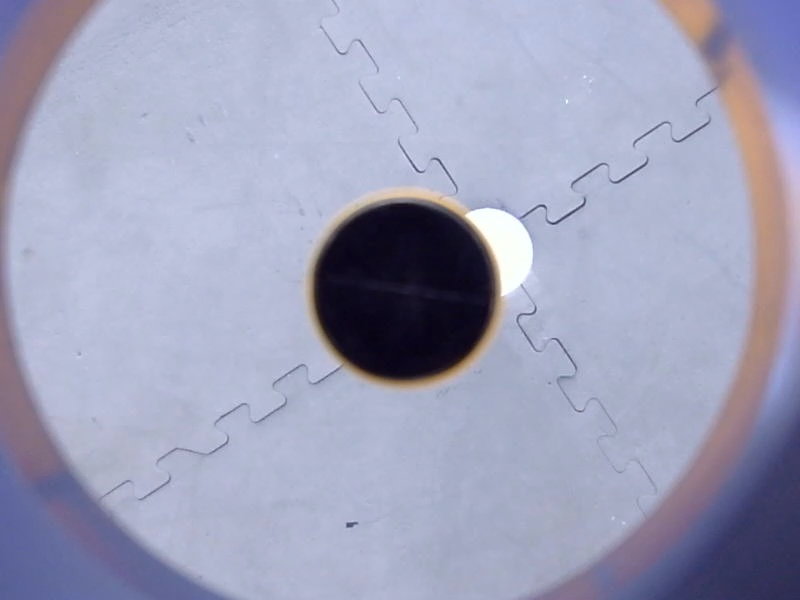tip: (295, 179, 514, 399)
